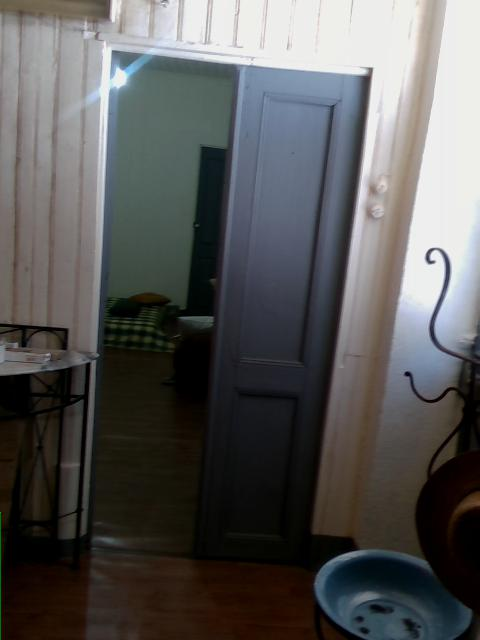open_door: (78, 37, 248, 569)
